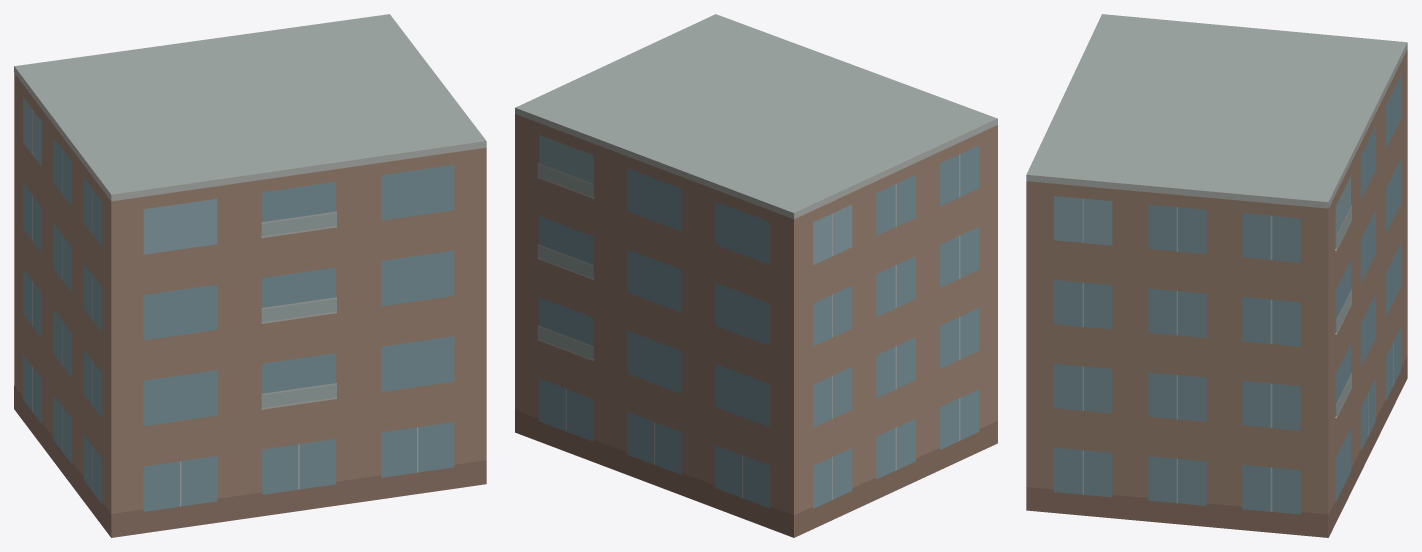
The model's file is survey-upis-32663584.glb.
The picture shows the model from 3 angles, left to right: view 1: azimuth 30°, elevation 25°; view 2: azimuth 150°, elevation 25°; view 3: azimuth 270°, elevation 25°; orthographic projection. The views are drawn at different scales.
Visible parts, largest first — view 1: survey-upis-32663584.tmp; view 2: survey-upis-32663584.tmp; view 3: survey-upis-32663584.tmp.
Part boxes in pixels (<box>): survey-upis-32663584.tmp: <box>14,14,486,537</box>; survey-upis-32663584.tmp: <box>515,14,997,537</box>; survey-upis-32663584.tmp: <box>1026,14,1407,537</box>.
Size of the model in its own units: 15.41 by 12.8 by 13.19.
